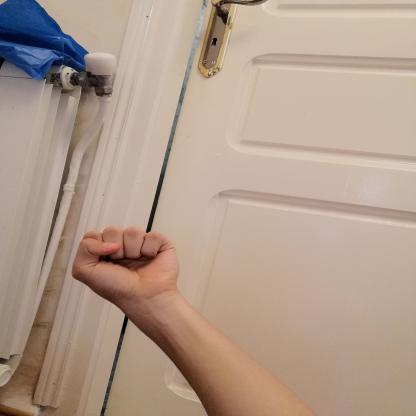SAD: (53, 216, 197, 315)
